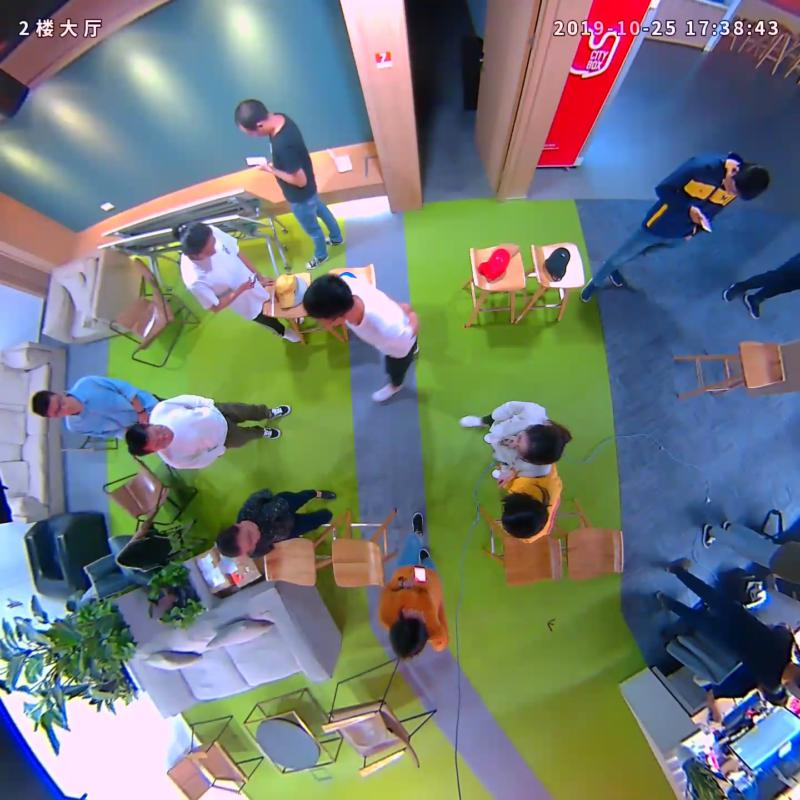head: (301, 275, 355, 325), (510, 423, 564, 465), (389, 609, 428, 659), (501, 497, 548, 538), (723, 161, 770, 200), (235, 98, 273, 139), (124, 424, 171, 457), (216, 523, 261, 557), (178, 220, 216, 259), (31, 390, 73, 420)
